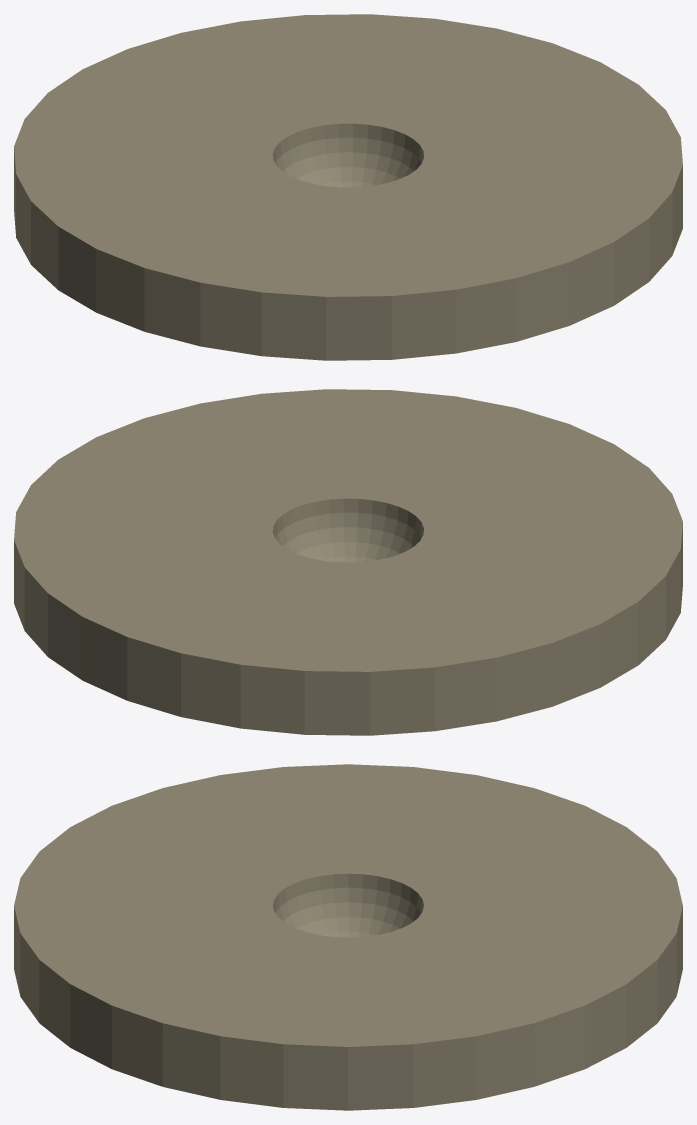
Rendered from bowl.fbx.
3 renders of one model, top to bottom at view 1: azimuth 30°, elevation 25°; view 2: azimuth 150°, elevation 25°; view 3: azimuth 270°, elevation 25°, orthographic.
Visible parts, largest first — view 1: Sphere; view 2: Sphere; view 3: Sphere.
Part boxes in pixels (x1,y1,x2,y2): Sphere: (14,14,682,360); Sphere: (14,389,682,735); Sphere: (14,764,682,1110).
Bounding box in the file's own units: 10.09 × 1.14 × 10.09.
